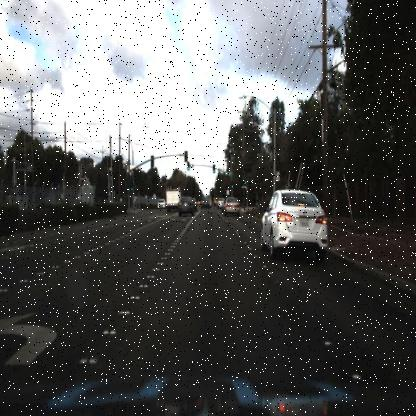car: (260, 182, 333, 268), (176, 196, 196, 220), (223, 198, 240, 216), (199, 196, 213, 212), (156, 198, 167, 212)
trafficLight: (129, 181, 134, 194)
trafficLight-Green: (209, 161, 218, 177), (184, 160, 191, 176), (241, 177, 248, 189), (228, 180, 234, 192), (244, 174, 247, 189)
truck: (164, 184, 182, 214), (165, 185, 182, 209)
